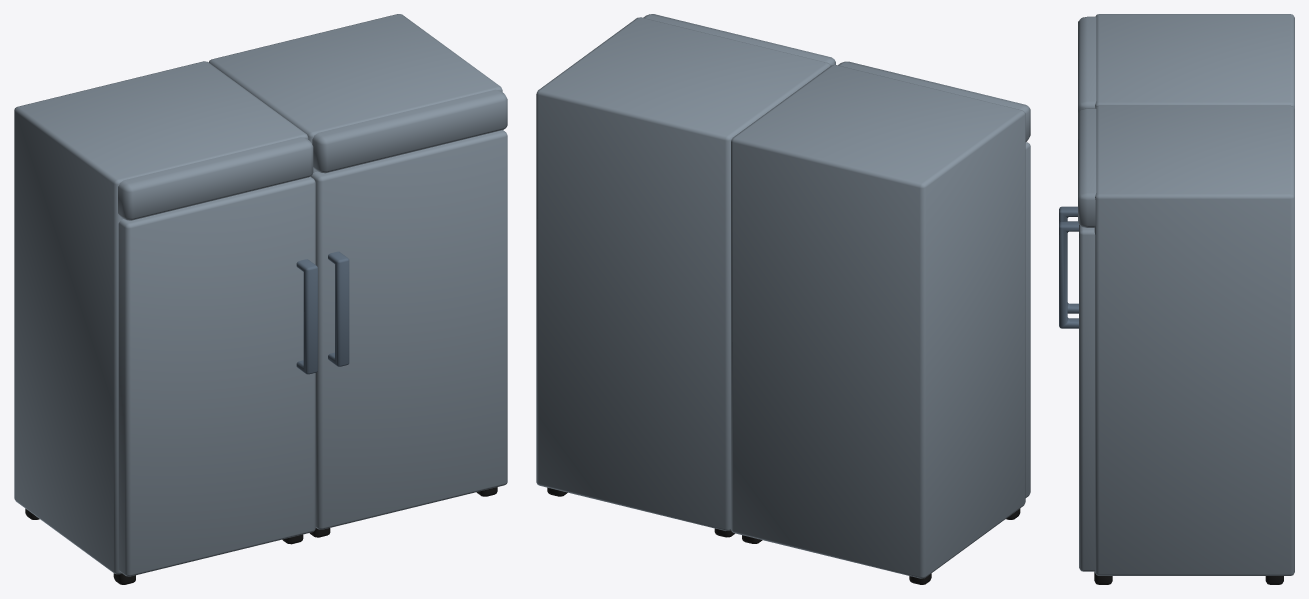
The model's file is Refrigerator-2.fbx.
3 renders of one model, left to right at view 1: azimuth 30°, elevation 25°; view 2: azimuth 150°, elevation 25°; view 3: azimuth 270°, elevation 25°, orthographic. The views are drawn at different scales.
Parts seen in each view (by area): view 1: Refrigerator-2, Refrigerator-2.001, Refrigerator-2.002; view 2: Refrigerator-2, Refrigerator-2.001; view 3: Refrigerator-2, Refrigerator-2.002, Refrigerator-2.001.
Boxes of the visible parts, x1,y1,x2,y2 form: Refrigerator-2: (14,14,507,584); Refrigerator-2.001: (118,176,317,576); Refrigerator-2.002: (310,130,507,529); Refrigerator-2: (536,14,1030,584); Refrigerator-2.001: (1025,142,1030,497); Refrigerator-2: (1078,14,1294,584); Refrigerator-2.002: (1059,221,1095,571); Refrigerator-2.001: (1059,206,1078,313).
Size of the model in its own units: 2 by 2 by 1.09.
